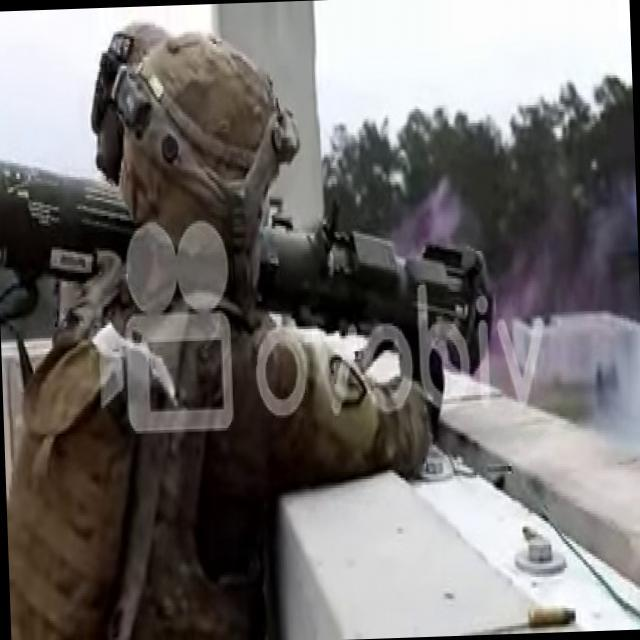rocket: (0, 153, 491, 388)
